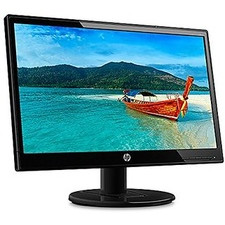hp-monitor-19ka: (1, 22, 224, 208)
